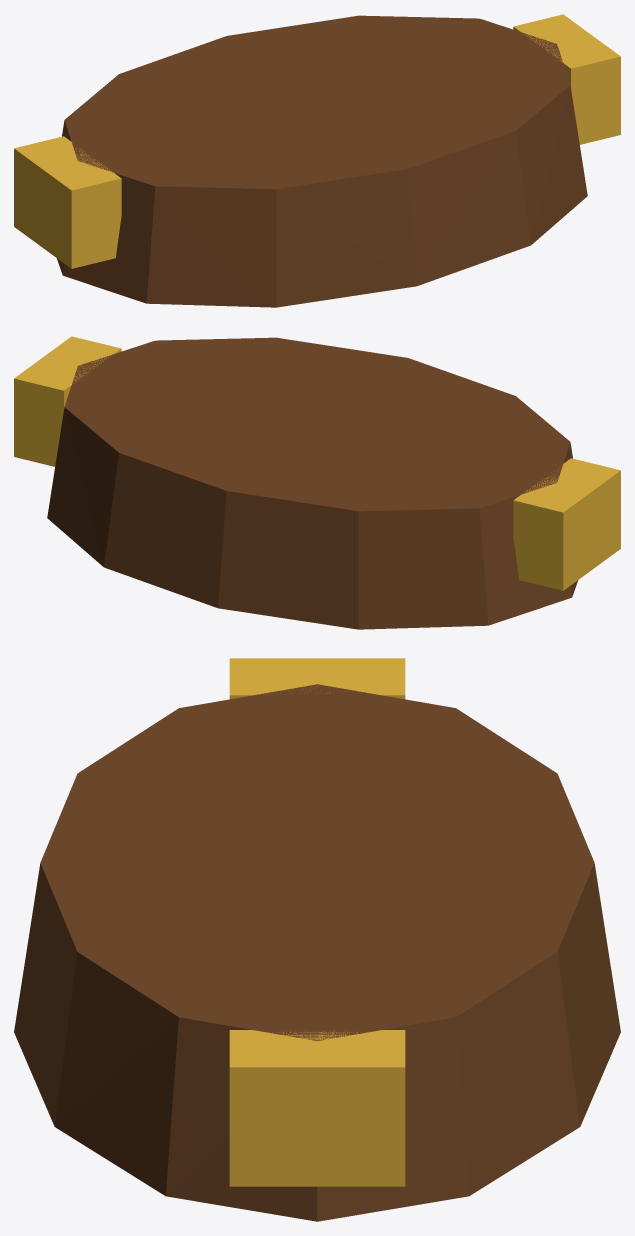
The model's file is gear_leather_chaps_hips_f.glb.
3 renders of one model, top to bottom at view 1: azimuth 30°, elevation 25°; view 2: azimuth 150°, elevation 25°; view 3: azimuth 270°, elevation 25°, orthographic. The views are drawn at different scales.
Parts seen in each view (by area): view 1: gear_leather_chaps_hips_f; view 2: gear_leather_chaps_hips_f; view 3: gear_leather_chaps_hips_f.
Part boxes in pixels (box(x1,y1,x2,y2)): gear_leather_chaps_hips_f: box(14, 14, 620, 307); gear_leather_chaps_hips_f: box(14, 336, 620, 629); gear_leather_chaps_hips_f: box(14, 658, 620, 1221).
Bounding box in the file's own units: 0.44 × 0.085 × 0.276.
